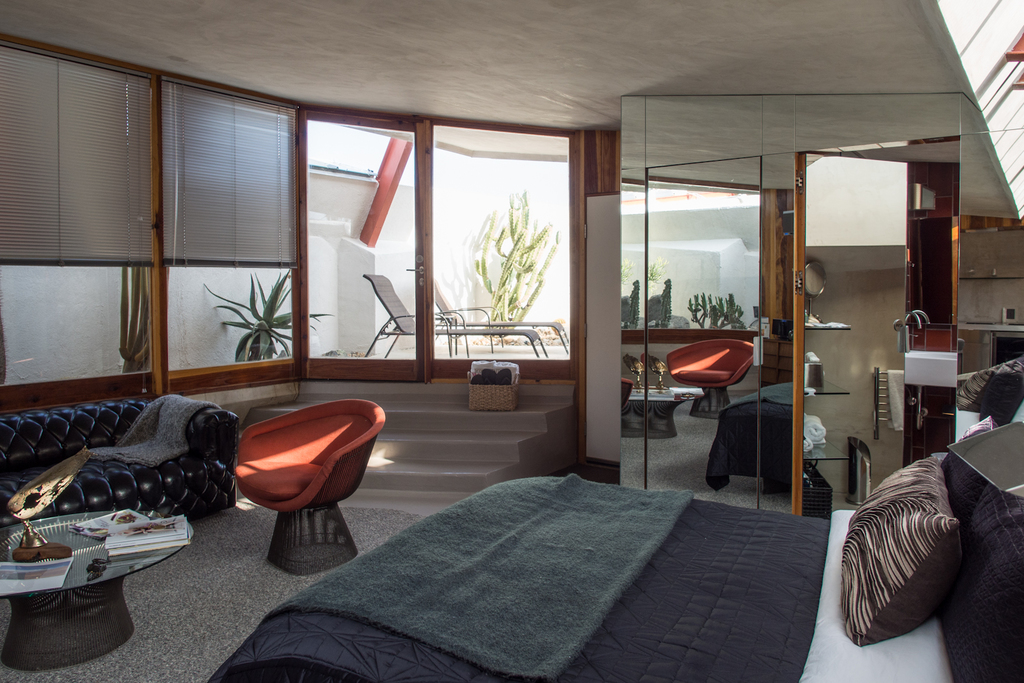Window: (0, 32, 576, 414), (614, 176, 755, 337)
